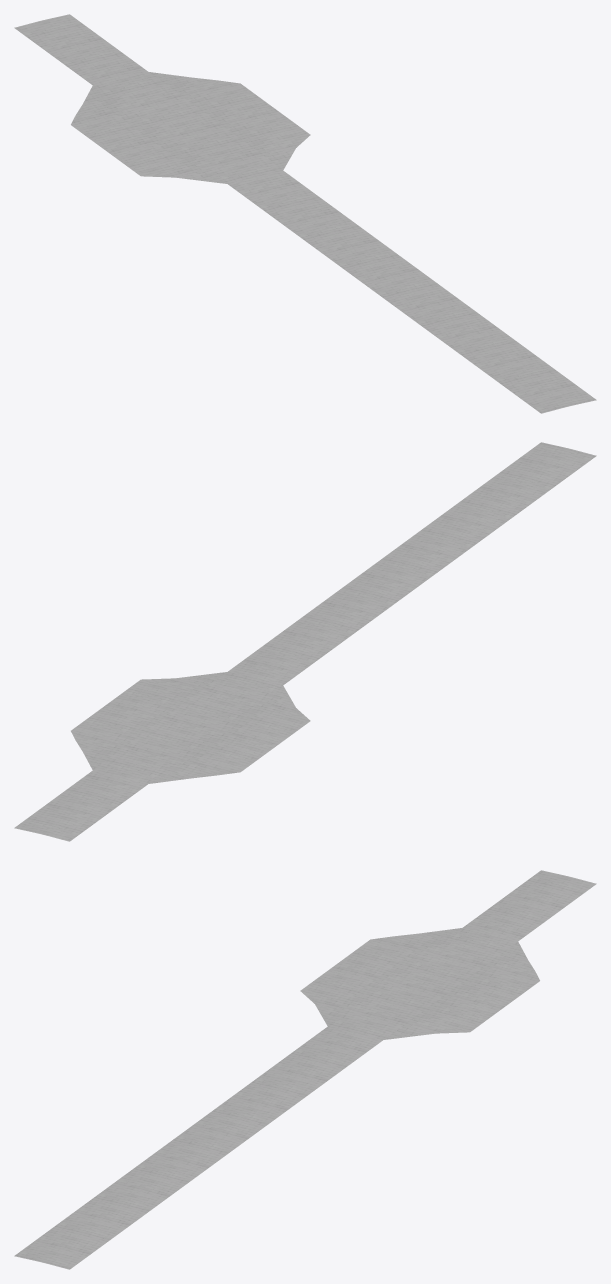
The model's file is SM_ENV_LKNVLD_Ground_road.FBX.
3 views of the same model, one above another, from view 1: azimuth 30°, elevation 25°; view 2: azimuth 150°, elevation 25°; view 3: azimuth 330°, elevation 25° (orthographic).
Visible parts, largest first — view 1: SM_ENV_LKNVLD_Ground_road; view 2: SM_ENV_LKNVLD_Ground_road; view 3: SM_ENV_LKNVLD_Ground_road.
Part boxes in pixels (x1,y1,x2,y2): SM_ENV_LKNVLD_Ground_road: (14,14,596,413); SM_ENV_LKNVLD_Ground_road: (14,442,596,841); SM_ENV_LKNVLD_Ground_road: (14,870,596,1269).
Bounding box in the file's own units: 2551 × 7.42 × 13707.
